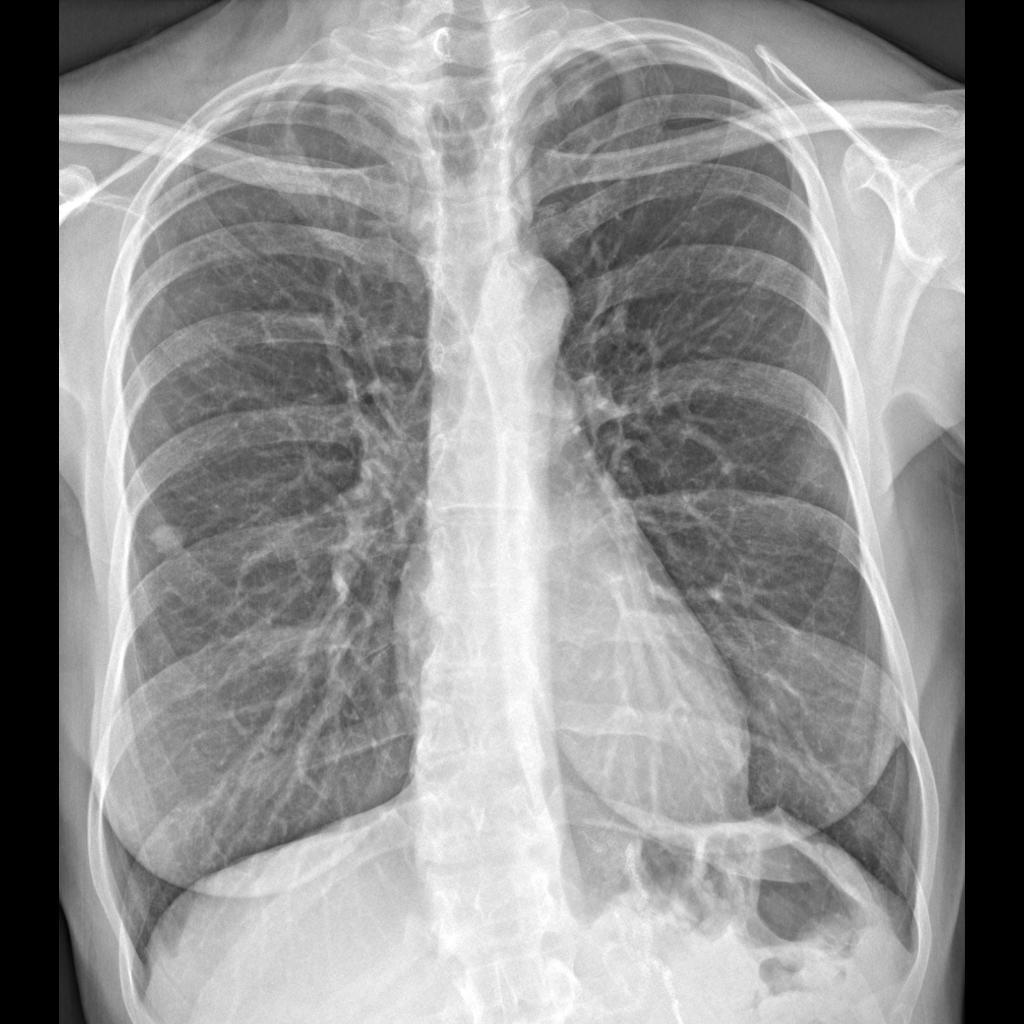Nodule: (149, 523, 203, 565)
